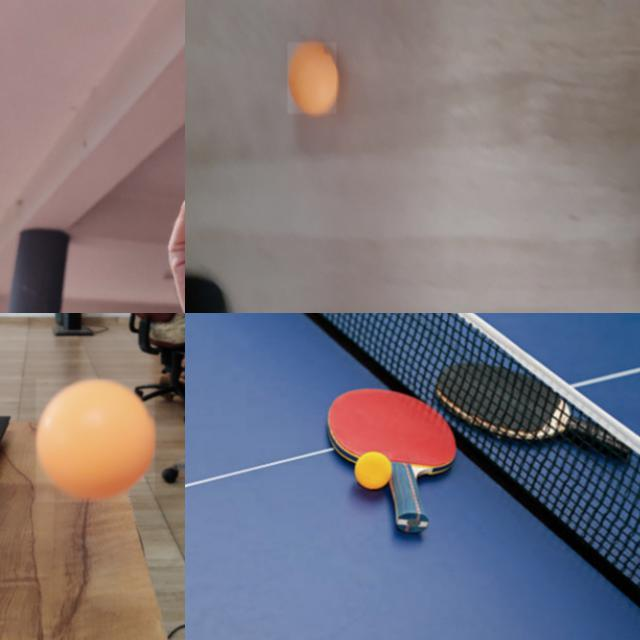ping-pong-ball: (36, 380, 156, 502), (288, 42, 338, 114), (355, 452, 393, 490)
